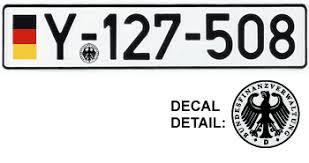0: (237, 12, 266, 60)
1: (102, 14, 122, 61)
2: (120, 12, 153, 63)
5: (202, 12, 236, 59)
7: (153, 13, 183, 61)
8: (267, 13, 295, 60)
Y: (44, 11, 76, 62)
